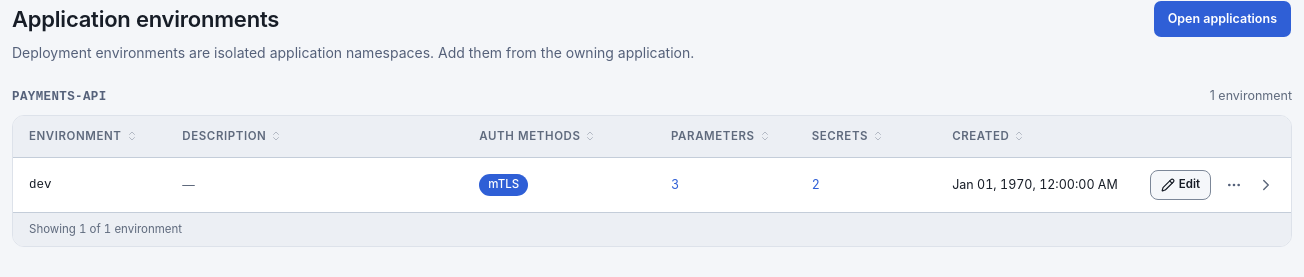
Test: NamespacesPage › explains why a non-empty namespace cannot be deleted
This screenshot has width=1304, height=277.
Click the button named "More for dev/payments-api" at (1234, 185), box [1219,170,1249,200]
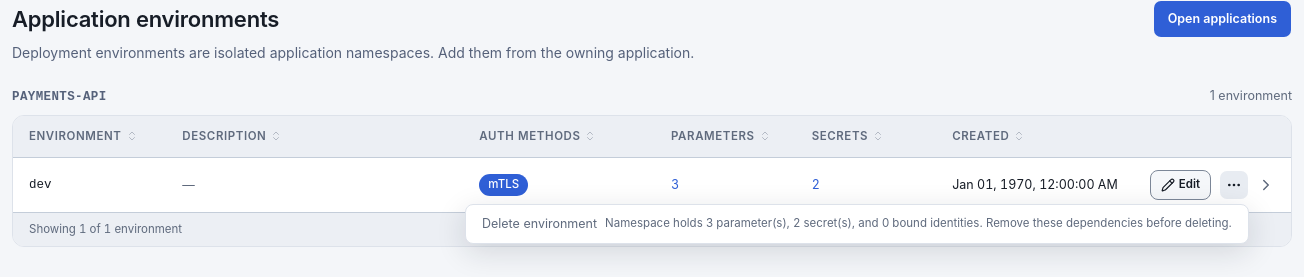
Result: the menu item "Delete environment" shows "holds 3 parameter(s), 2 secret(s), and 0 bound identities" at [482,216,1232,231]
